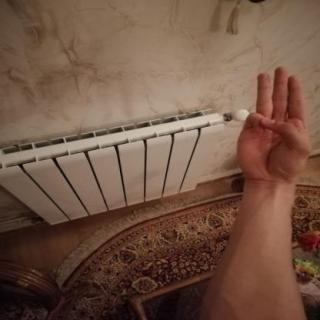THA: (222, 60, 318, 194)
